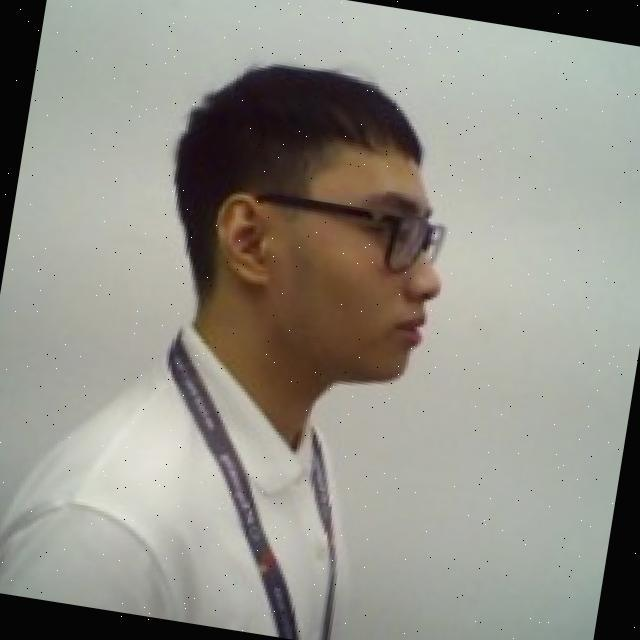no_gloves: (162, 34, 456, 220)
no_hairnet: (191, 190, 452, 411)
